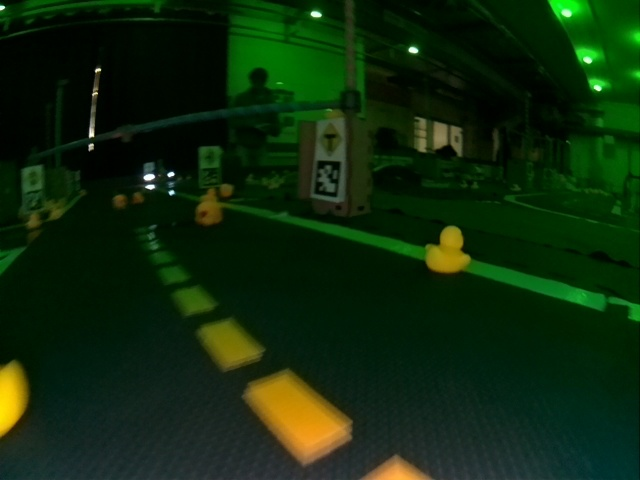Duckie: (427, 226, 469, 272), (195, 202, 223, 225), (26, 214, 41, 228), (114, 194, 125, 206), (222, 184, 232, 196), (134, 192, 143, 203)
Intersection sign: (317, 120, 344, 159)
QR code: (313, 159, 342, 198), (26, 191, 44, 209), (201, 169, 220, 185)
Signal sign: (24, 170, 40, 188)
